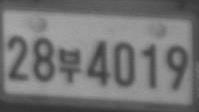0: (113, 42, 136, 86)
1: (140, 43, 163, 88)
2: (6, 34, 29, 82)
4: (87, 40, 110, 86)
8: (32, 36, 56, 82)
9: (166, 44, 189, 89)
부: (59, 47, 82, 83)
